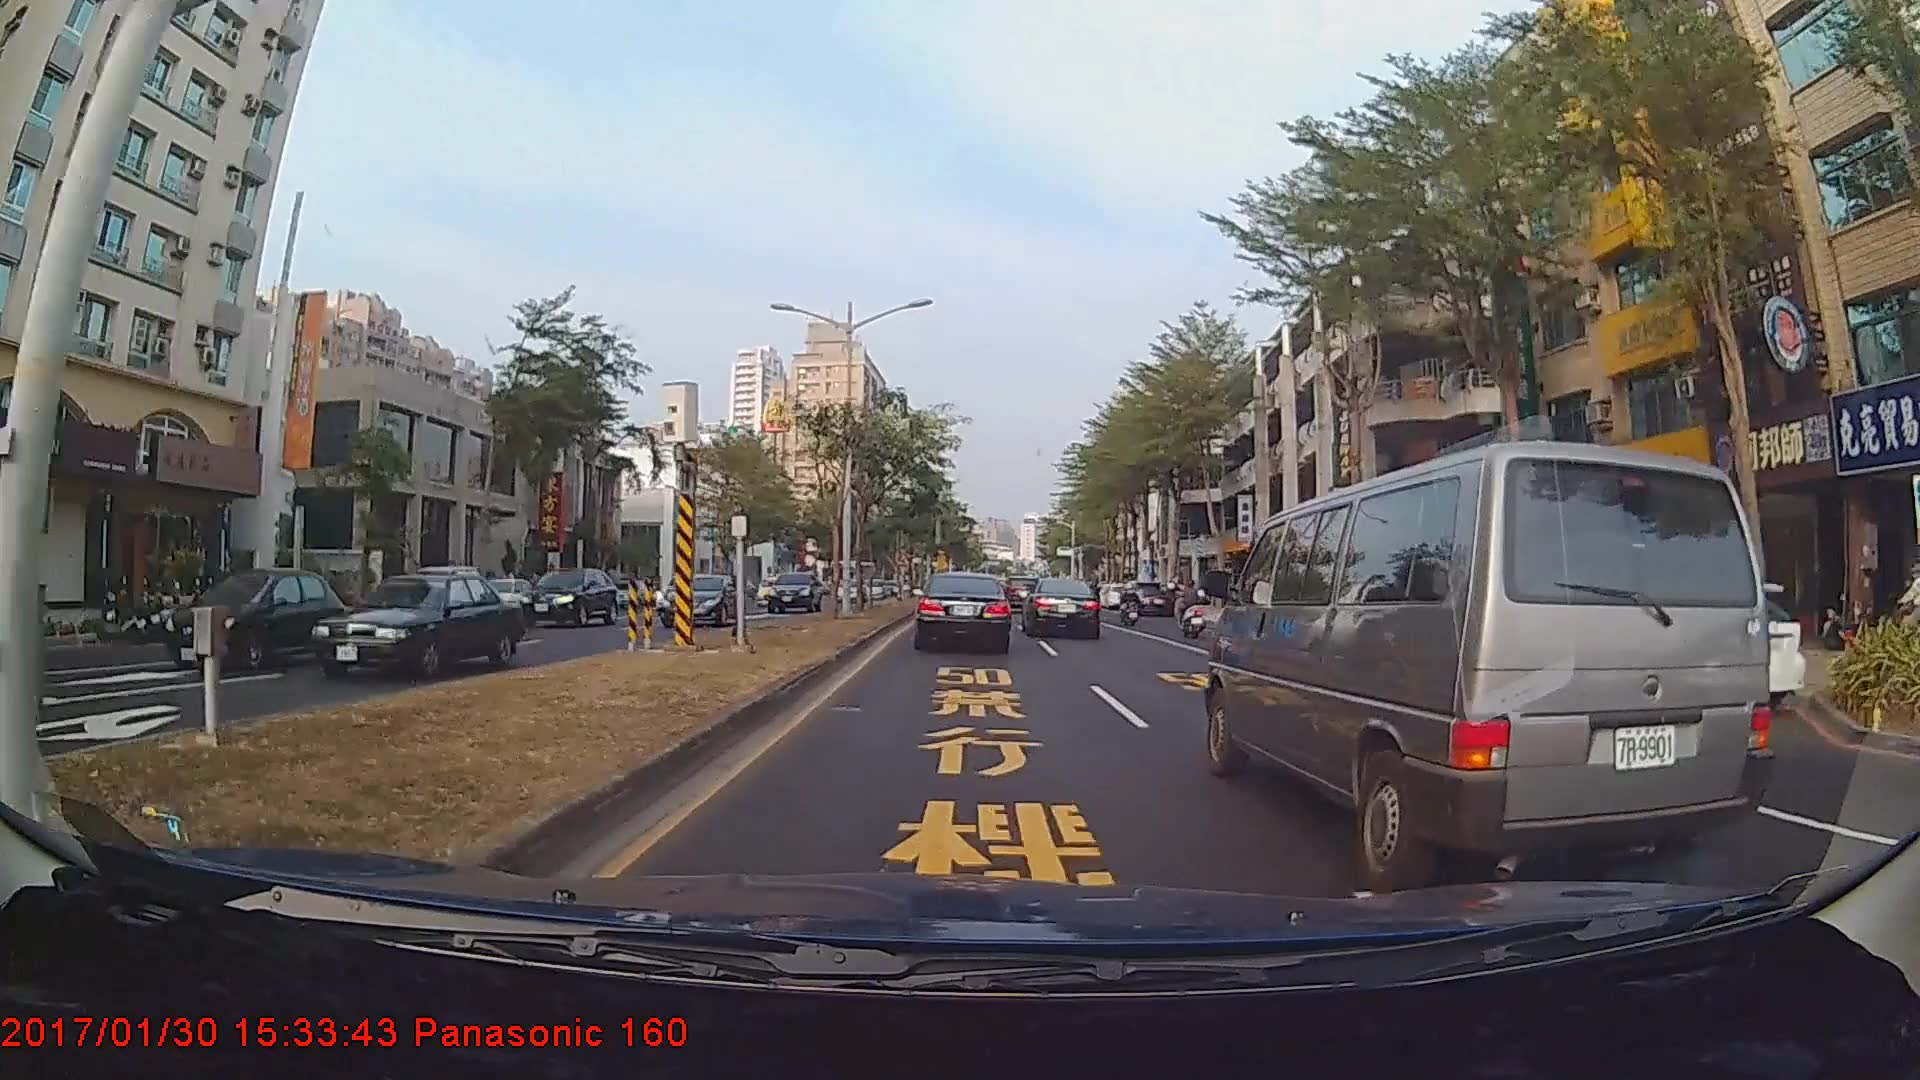rider: (1169, 580, 1215, 644)
vehicle: (1198, 427, 1786, 888), (303, 575, 525, 682), (163, 569, 349, 673), (915, 572, 1011, 652), (517, 567, 618, 628), (1022, 578, 1101, 640), (655, 574, 742, 627), (766, 571, 819, 614)
